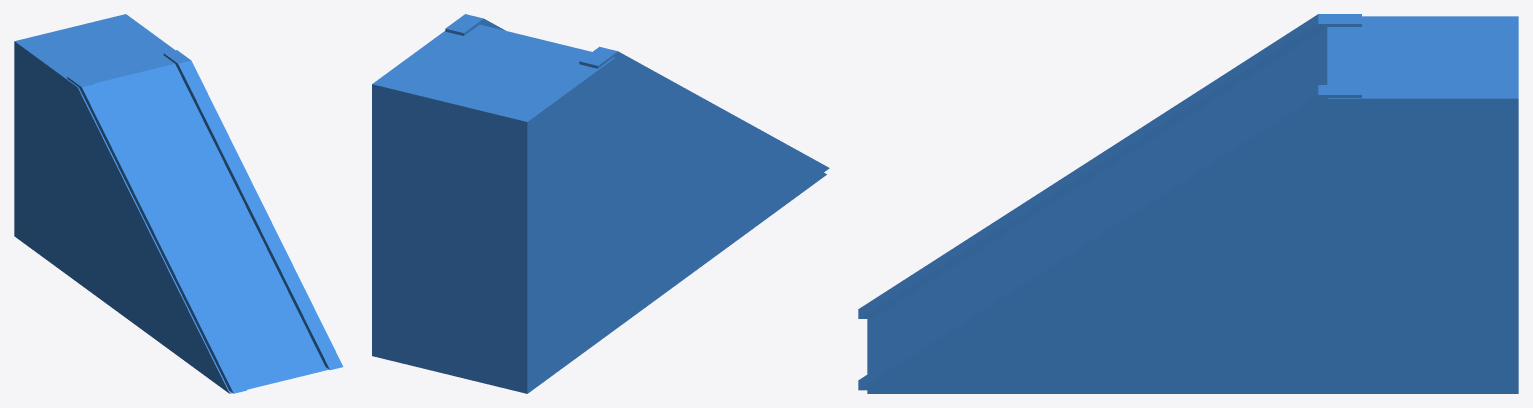
File: Collision_Stair_Interior_SolidExtended.fbx
3 renders of one model, left to right at view 1: azimuth 30°, elevation 25°; view 2: azimuth 150°, elevation 25°; view 3: azimuth 270°, elevation 25°, orthographic. The views are drawn at different scales.
Parts seen in each view (by area): view 1: UCX_Stair_Interior_SolidExtended_1; view 2: UCX_Stair_Interior_SolidExtended_1; view 3: UCX_Stair_Interior_SolidExtended_1.
Part boxes in pixels (x1=…): UCX_Stair_Interior_SolidExtended_1: x1=14, y1=14, x2=343, y2=393; UCX_Stair_Interior_SolidExtended_1: x1=372, y1=14, x2=829, y2=393; UCX_Stair_Interior_SolidExtended_1: x1=858, y1=14, x2=1518, y2=393.
Size of the model in its own units: 181 by 306 by 613.
